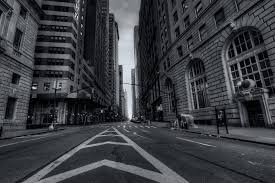strada: (11, 121, 265, 182)
